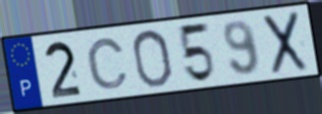2: (44, 39, 84, 100)
5: (173, 20, 217, 84)
9: (221, 18, 262, 78)
C: (85, 37, 131, 92)
O: (129, 27, 174, 90)
X: (262, 9, 310, 78)
